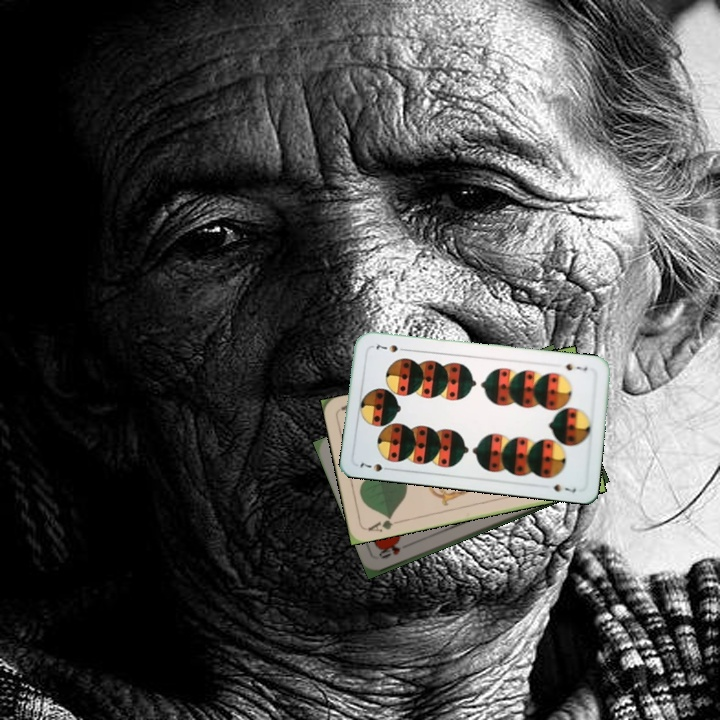GA: (364, 512, 403, 534)
HO: (375, 542, 403, 561)
S7: (356, 458, 395, 474), (562, 359, 590, 373)
